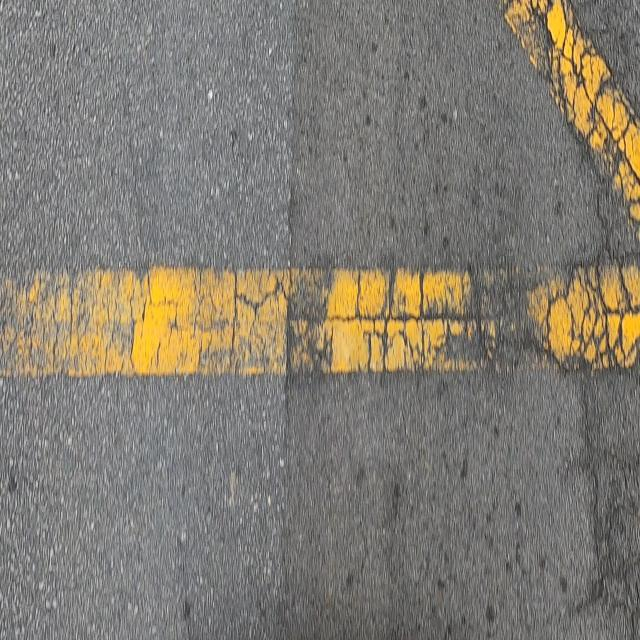Retak-Buaya: (0, 261, 640, 378), (496, 0, 640, 242), (578, 372, 640, 628)
